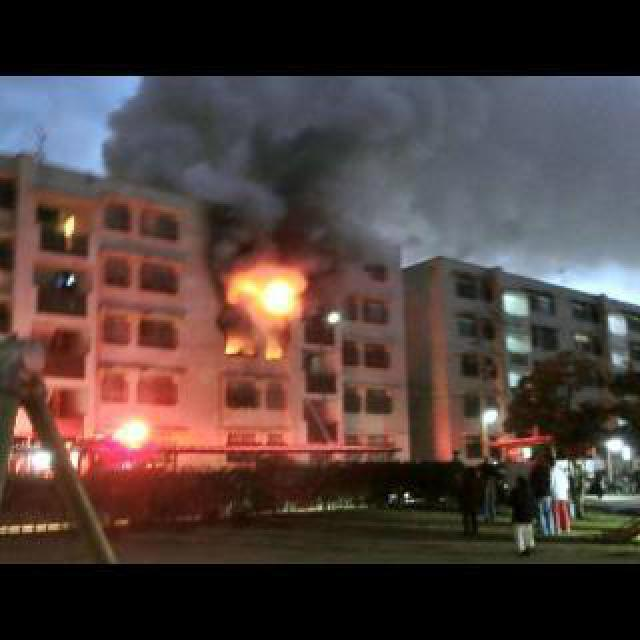Fire: (206, 264, 302, 362)
Smoke: (94, 76, 477, 262)
